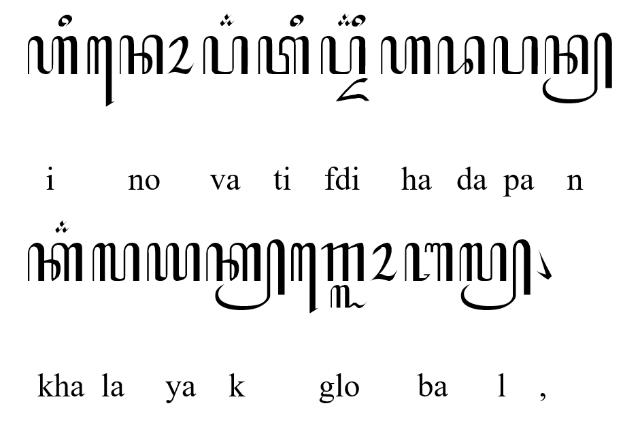-k: (204, 239, 286, 311)
-l: (458, 239, 532, 311)
-n: (540, 32, 614, 104)
_d: (335, 78, 369, 102)
_l: (329, 284, 368, 310)
alt: (219, 12, 235, 26), (337, 13, 353, 27), (54, 219, 70, 233)
b: (403, 240, 453, 282)
d: (437, 35, 485, 75)
e1: (290, 242, 318, 314), (88, 36, 114, 108)
g: (321, 242, 365, 282)
h: (27, 35, 78, 75), (381, 35, 432, 75)
i: (289, 14, 305, 27), (58, 13, 72, 27), (352, 14, 366, 27)
k: (26, 242, 84, 282)
kom: (536, 248, 552, 280)
l: (91, 242, 141, 282)
n: (118, 35, 164, 76)
o: (370, 242, 398, 282), (168, 34, 195, 73)
p: (492, 35, 540, 75), (202, 35, 248, 76), (320, 35, 366, 75)
t: (258, 35, 310, 75)
y: (146, 242, 200, 282)
